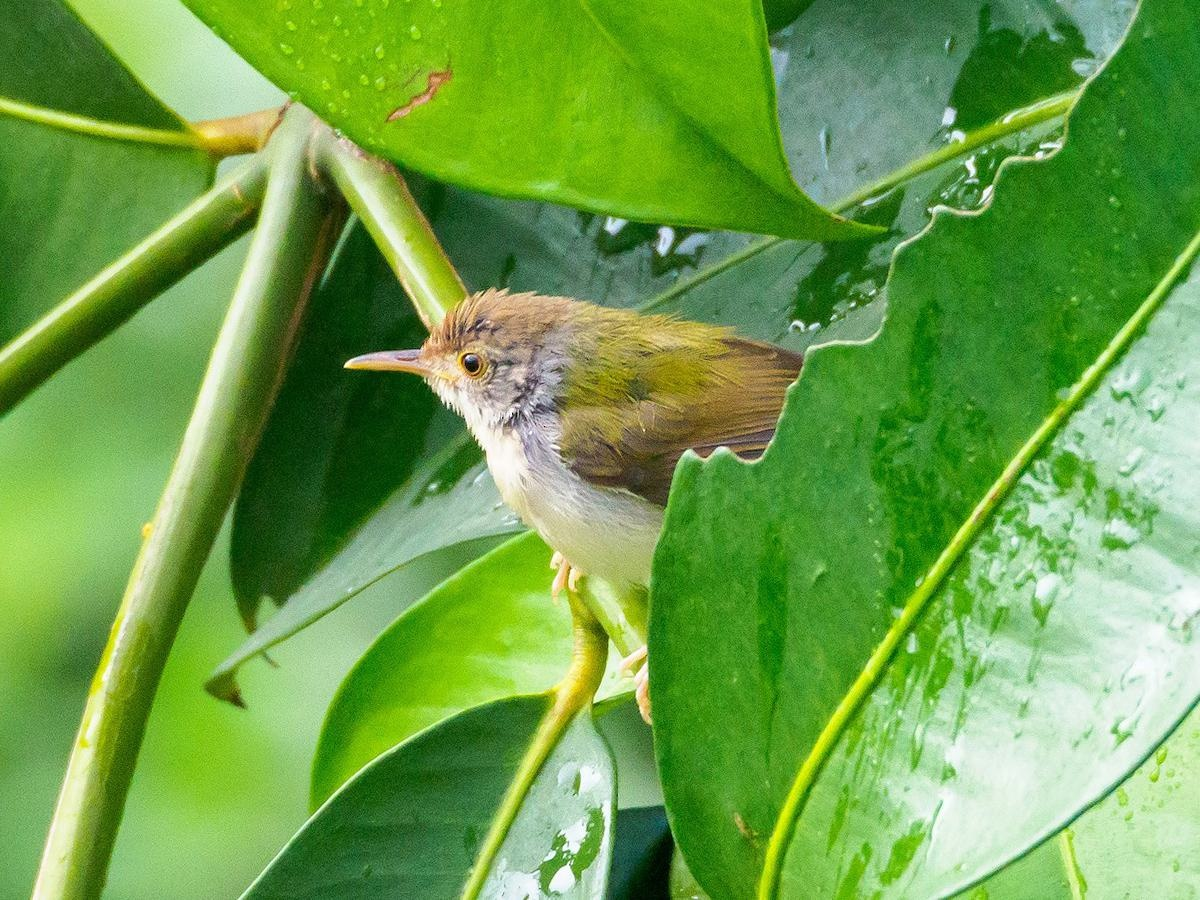tailorbird: (297, 240, 876, 583)
